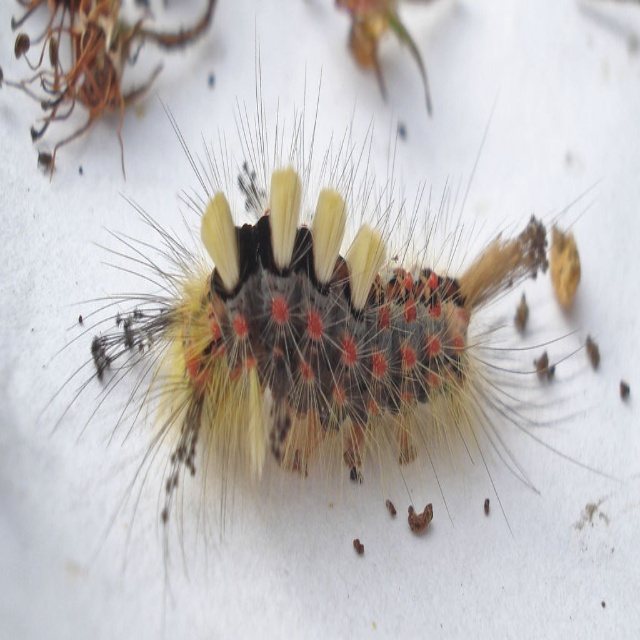Caterpillar: (30, 10, 629, 639)
